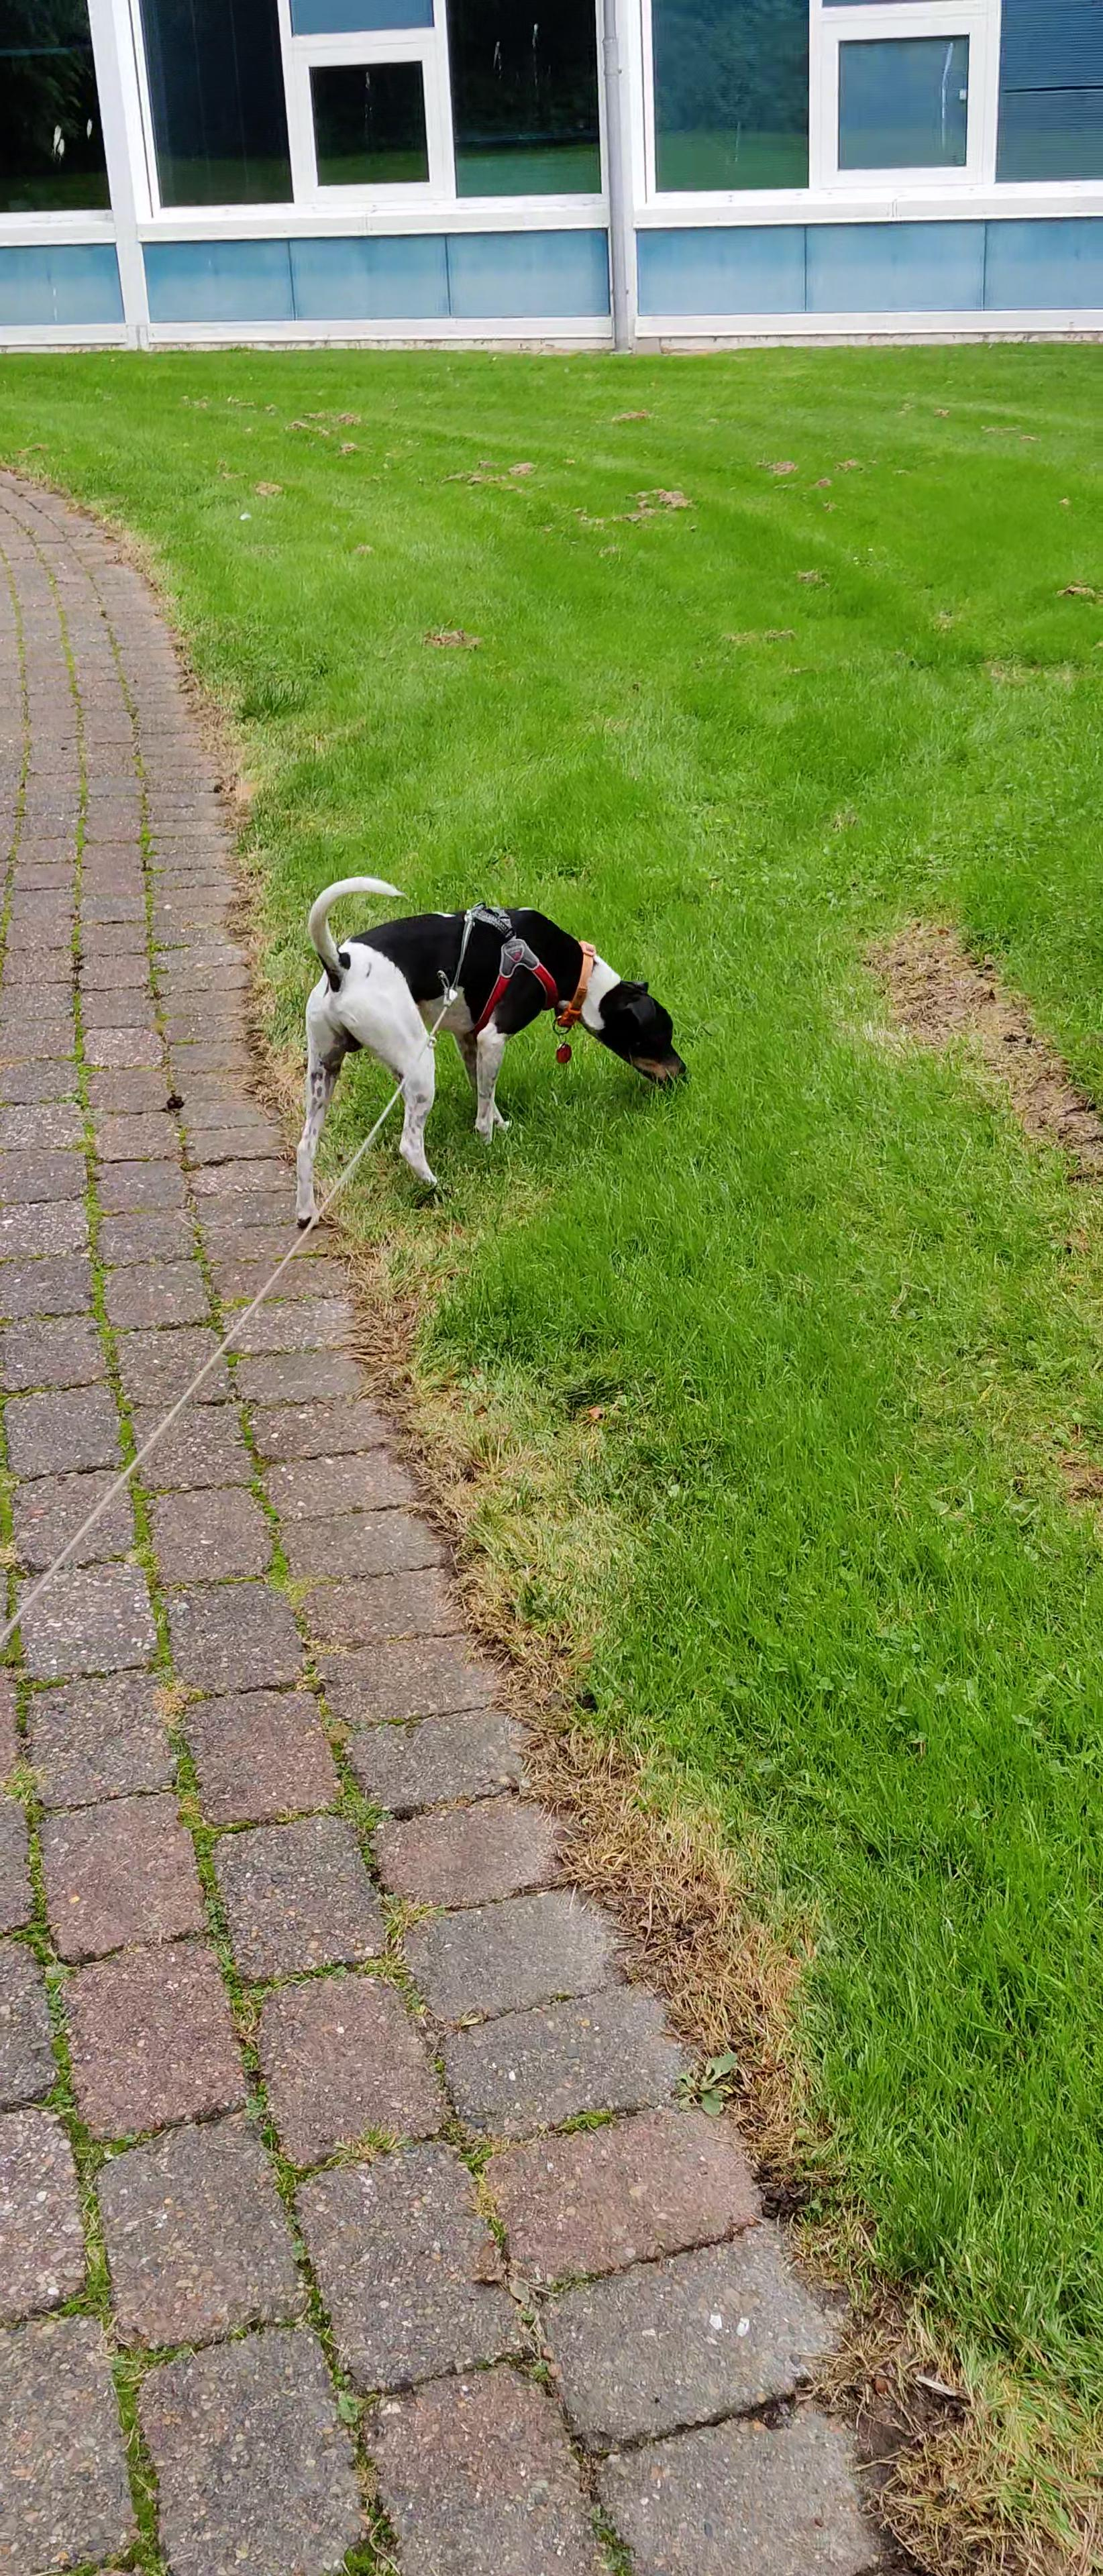Dog: (283, 871, 700, 1235)
